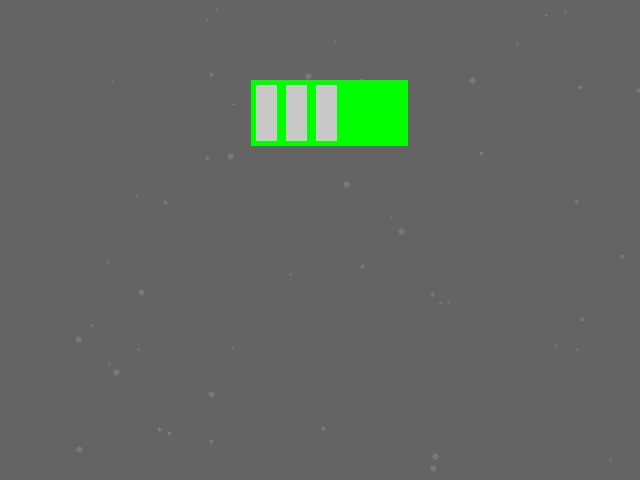bus: (251, 80, 407, 145)
